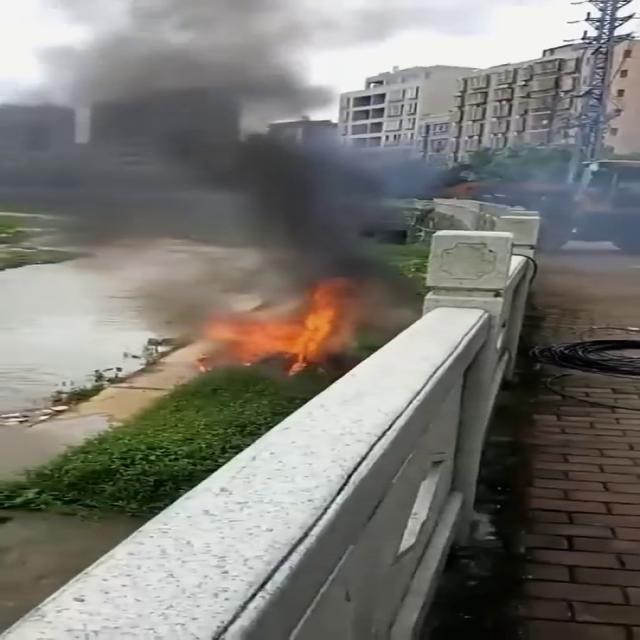Fire: (184, 280, 366, 370)
Smoke: (1, 0, 429, 316)
